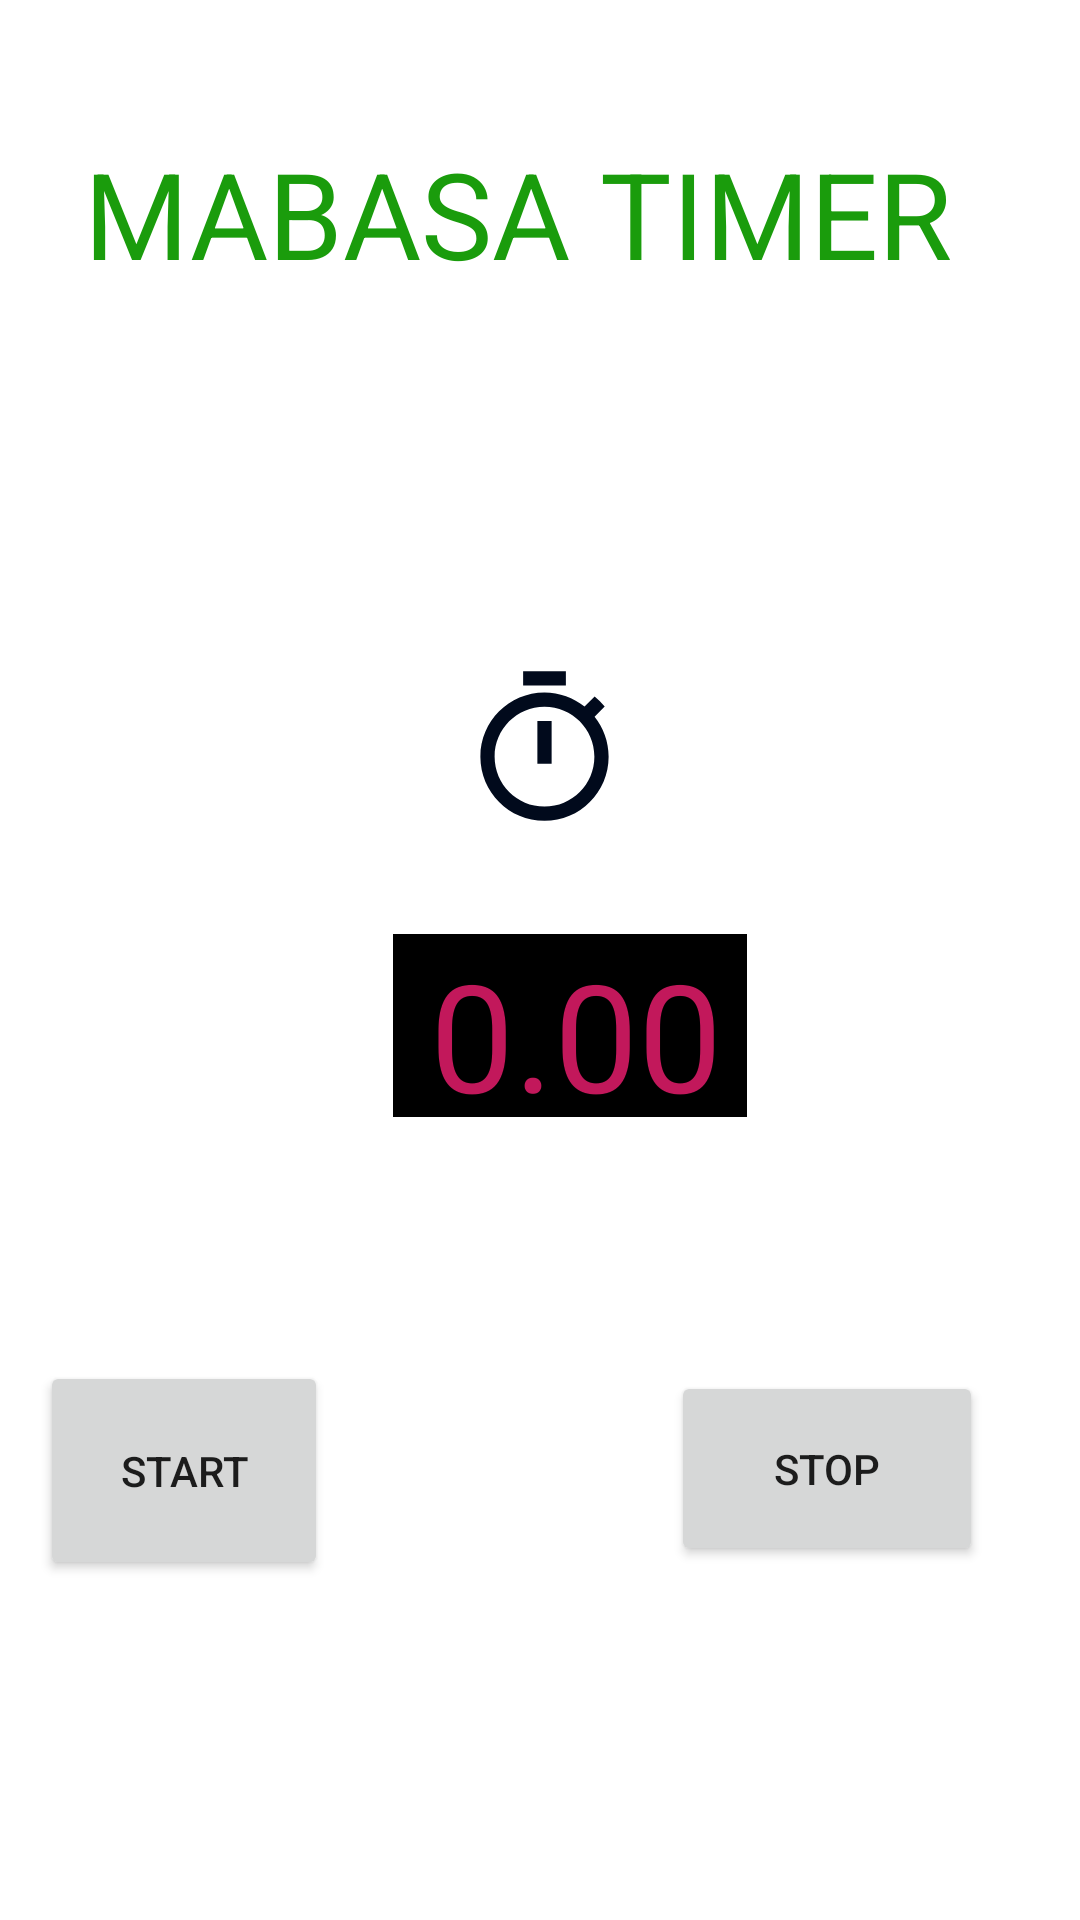

Named icons in this screenshot (1080x1920) and their centers, (x,y):
mytimer: (544,746)
